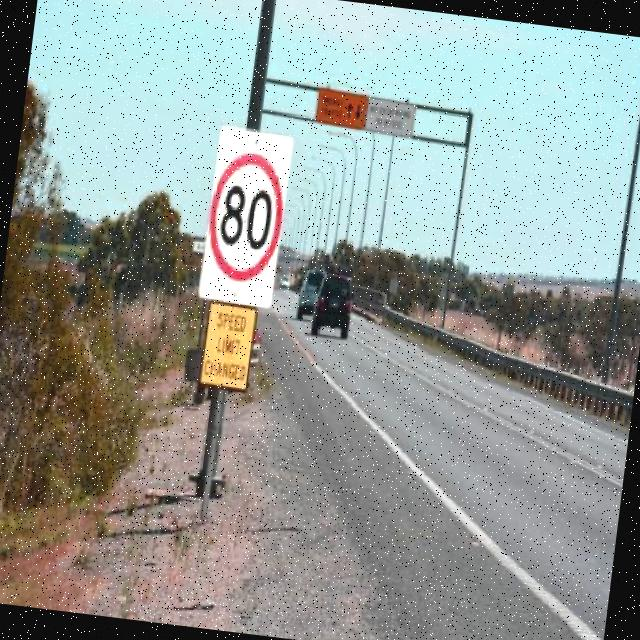Ograniczenie predkosci do 80: (198, 145, 292, 289)
